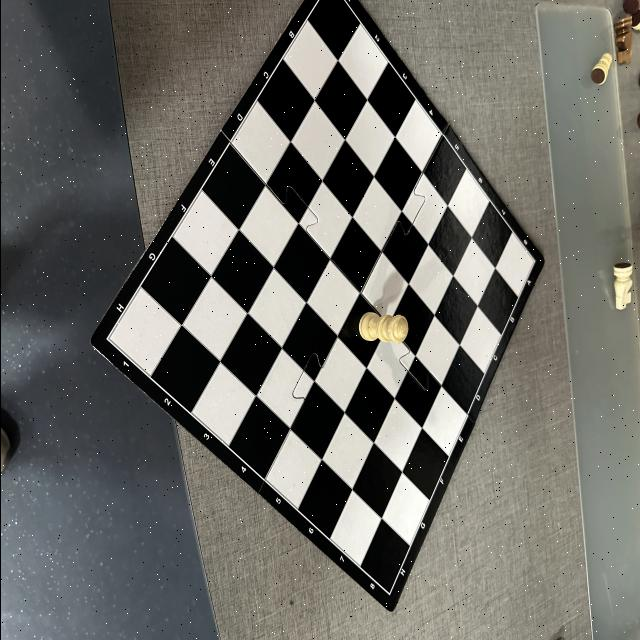Black-Knight: (612, 16, 632, 66)
White-Knight: (612, 262, 632, 310)
White-Pawn: (590, 50, 610, 84)
White-Queen: (356, 311, 408, 345)
